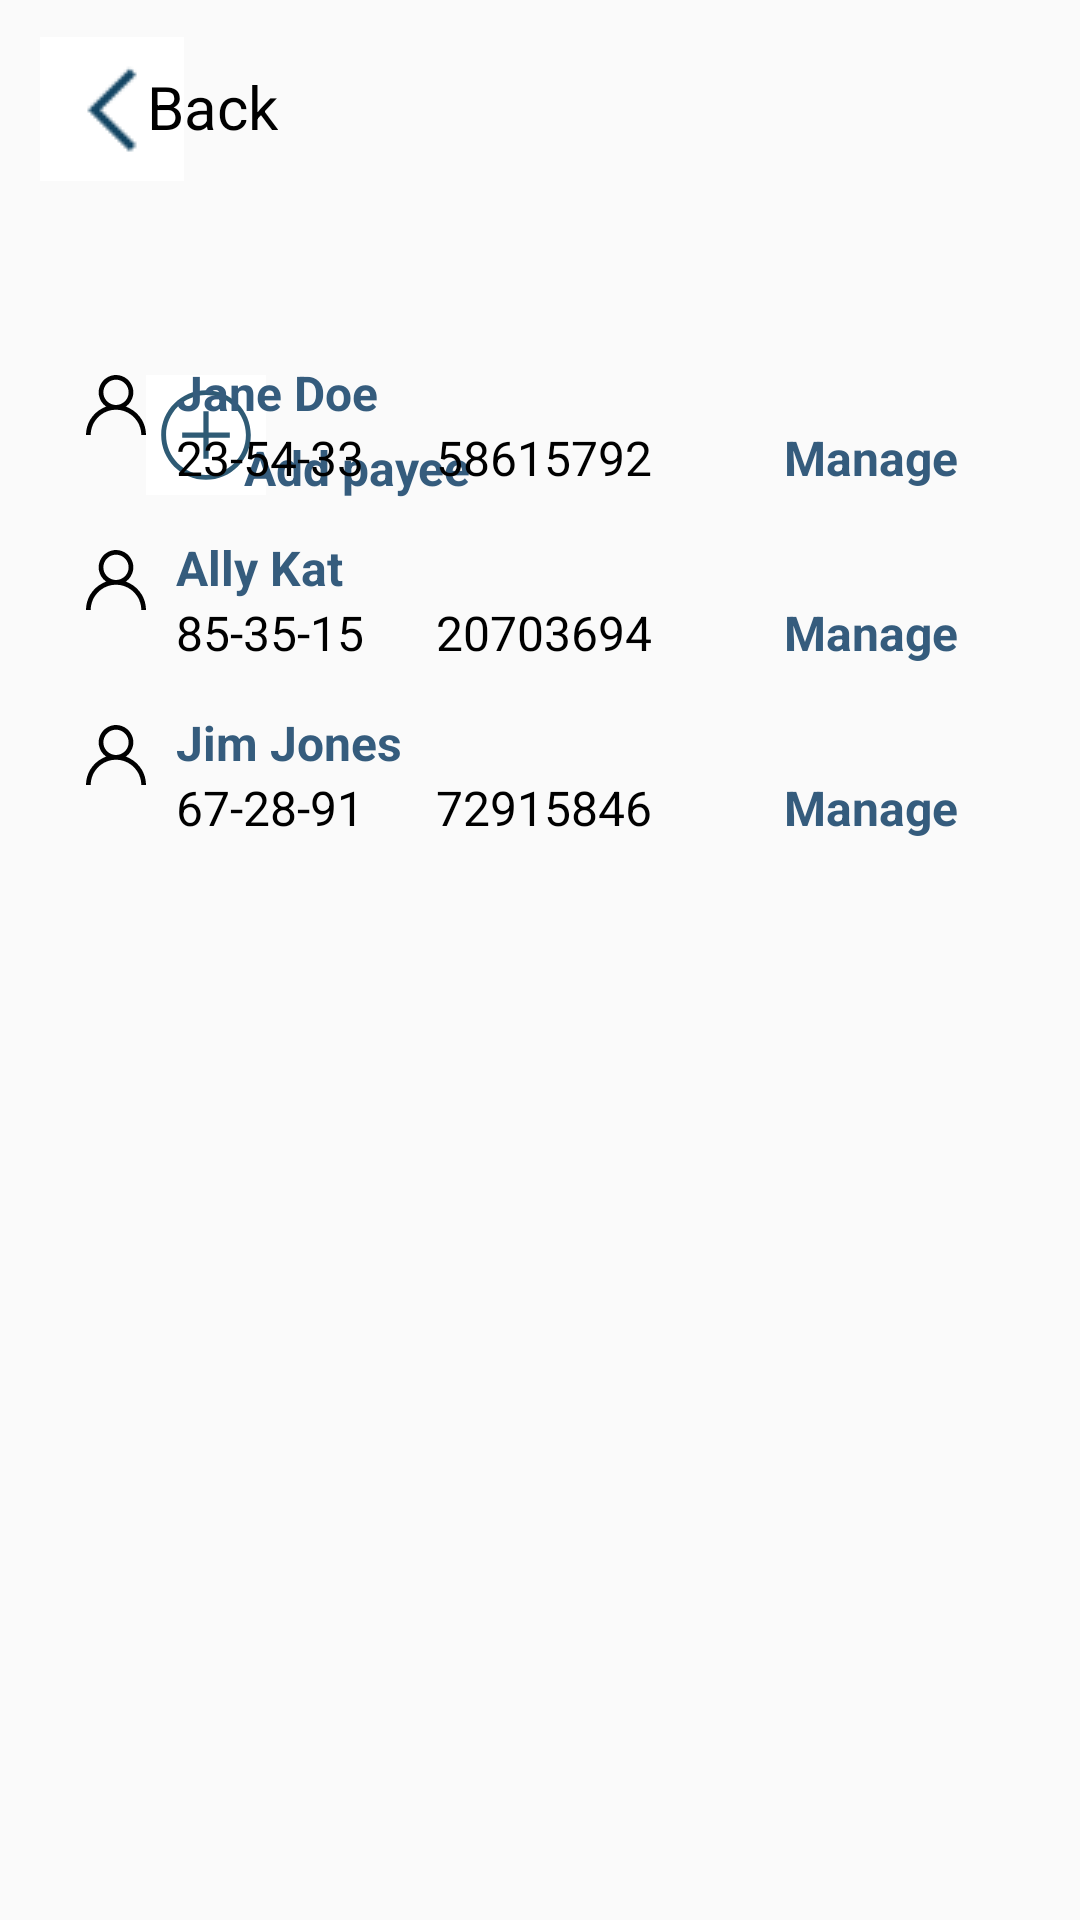

Screen size 1080 x 1920. Icon name, then its center in pixels as (x,y):
user: (116,405), (116,580), (116,755)
